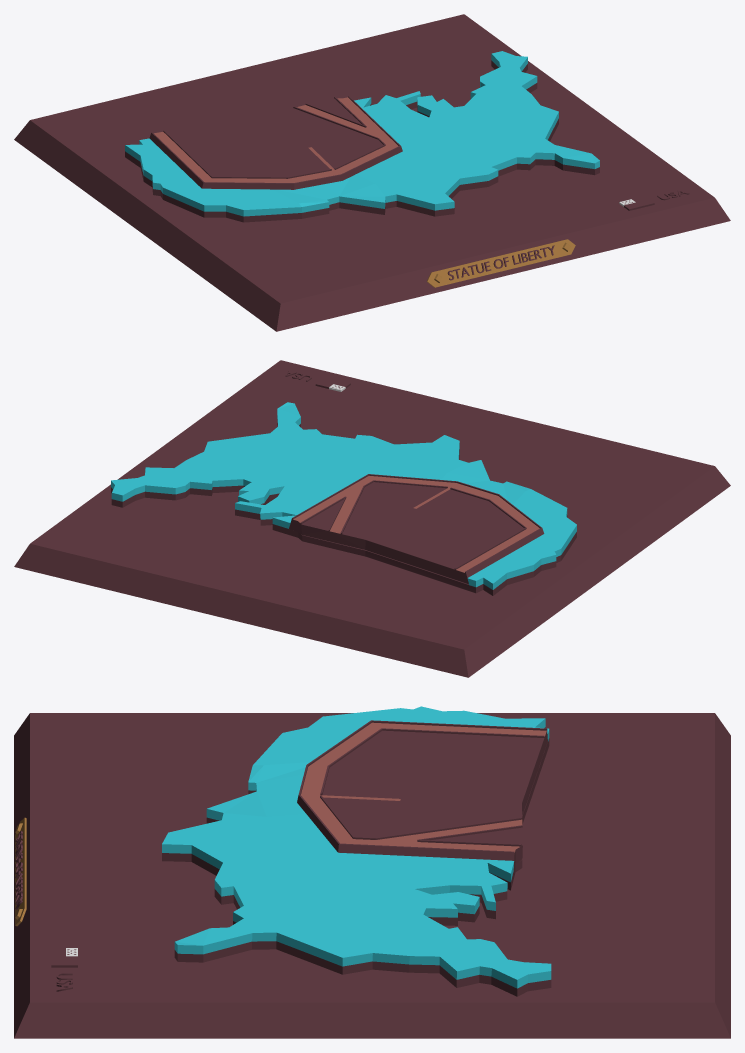
The model's file is SM_Island_StatueOfLiberty_Landmark.fbx.
3 renders of one model, top to bottom at view 1: azimuth 30°, elevation 25°; view 2: azimuth 150°, elevation 25°; view 3: azimuth 270°, elevation 25°, orthographic. The views are drawn at different scales.
Visible parts, largest first — view 1: Island_StatueOfLiberty_Landmark; view 2: Island_StatueOfLiberty_Landmark; view 3: Island_StatueOfLiberty_Landmark.
Part boxes in pixels (x1,y1,x2,y2): Island_StatueOfLiberty_Landmark: (14,14,730,331); Island_StatueOfLiberty_Landmark: (14,360,730,677); Island_StatueOfLiberty_Landmark: (14,706,730,1038).
Bounding box in the file's own units: 68.5 × 5.67 × 68.5.
